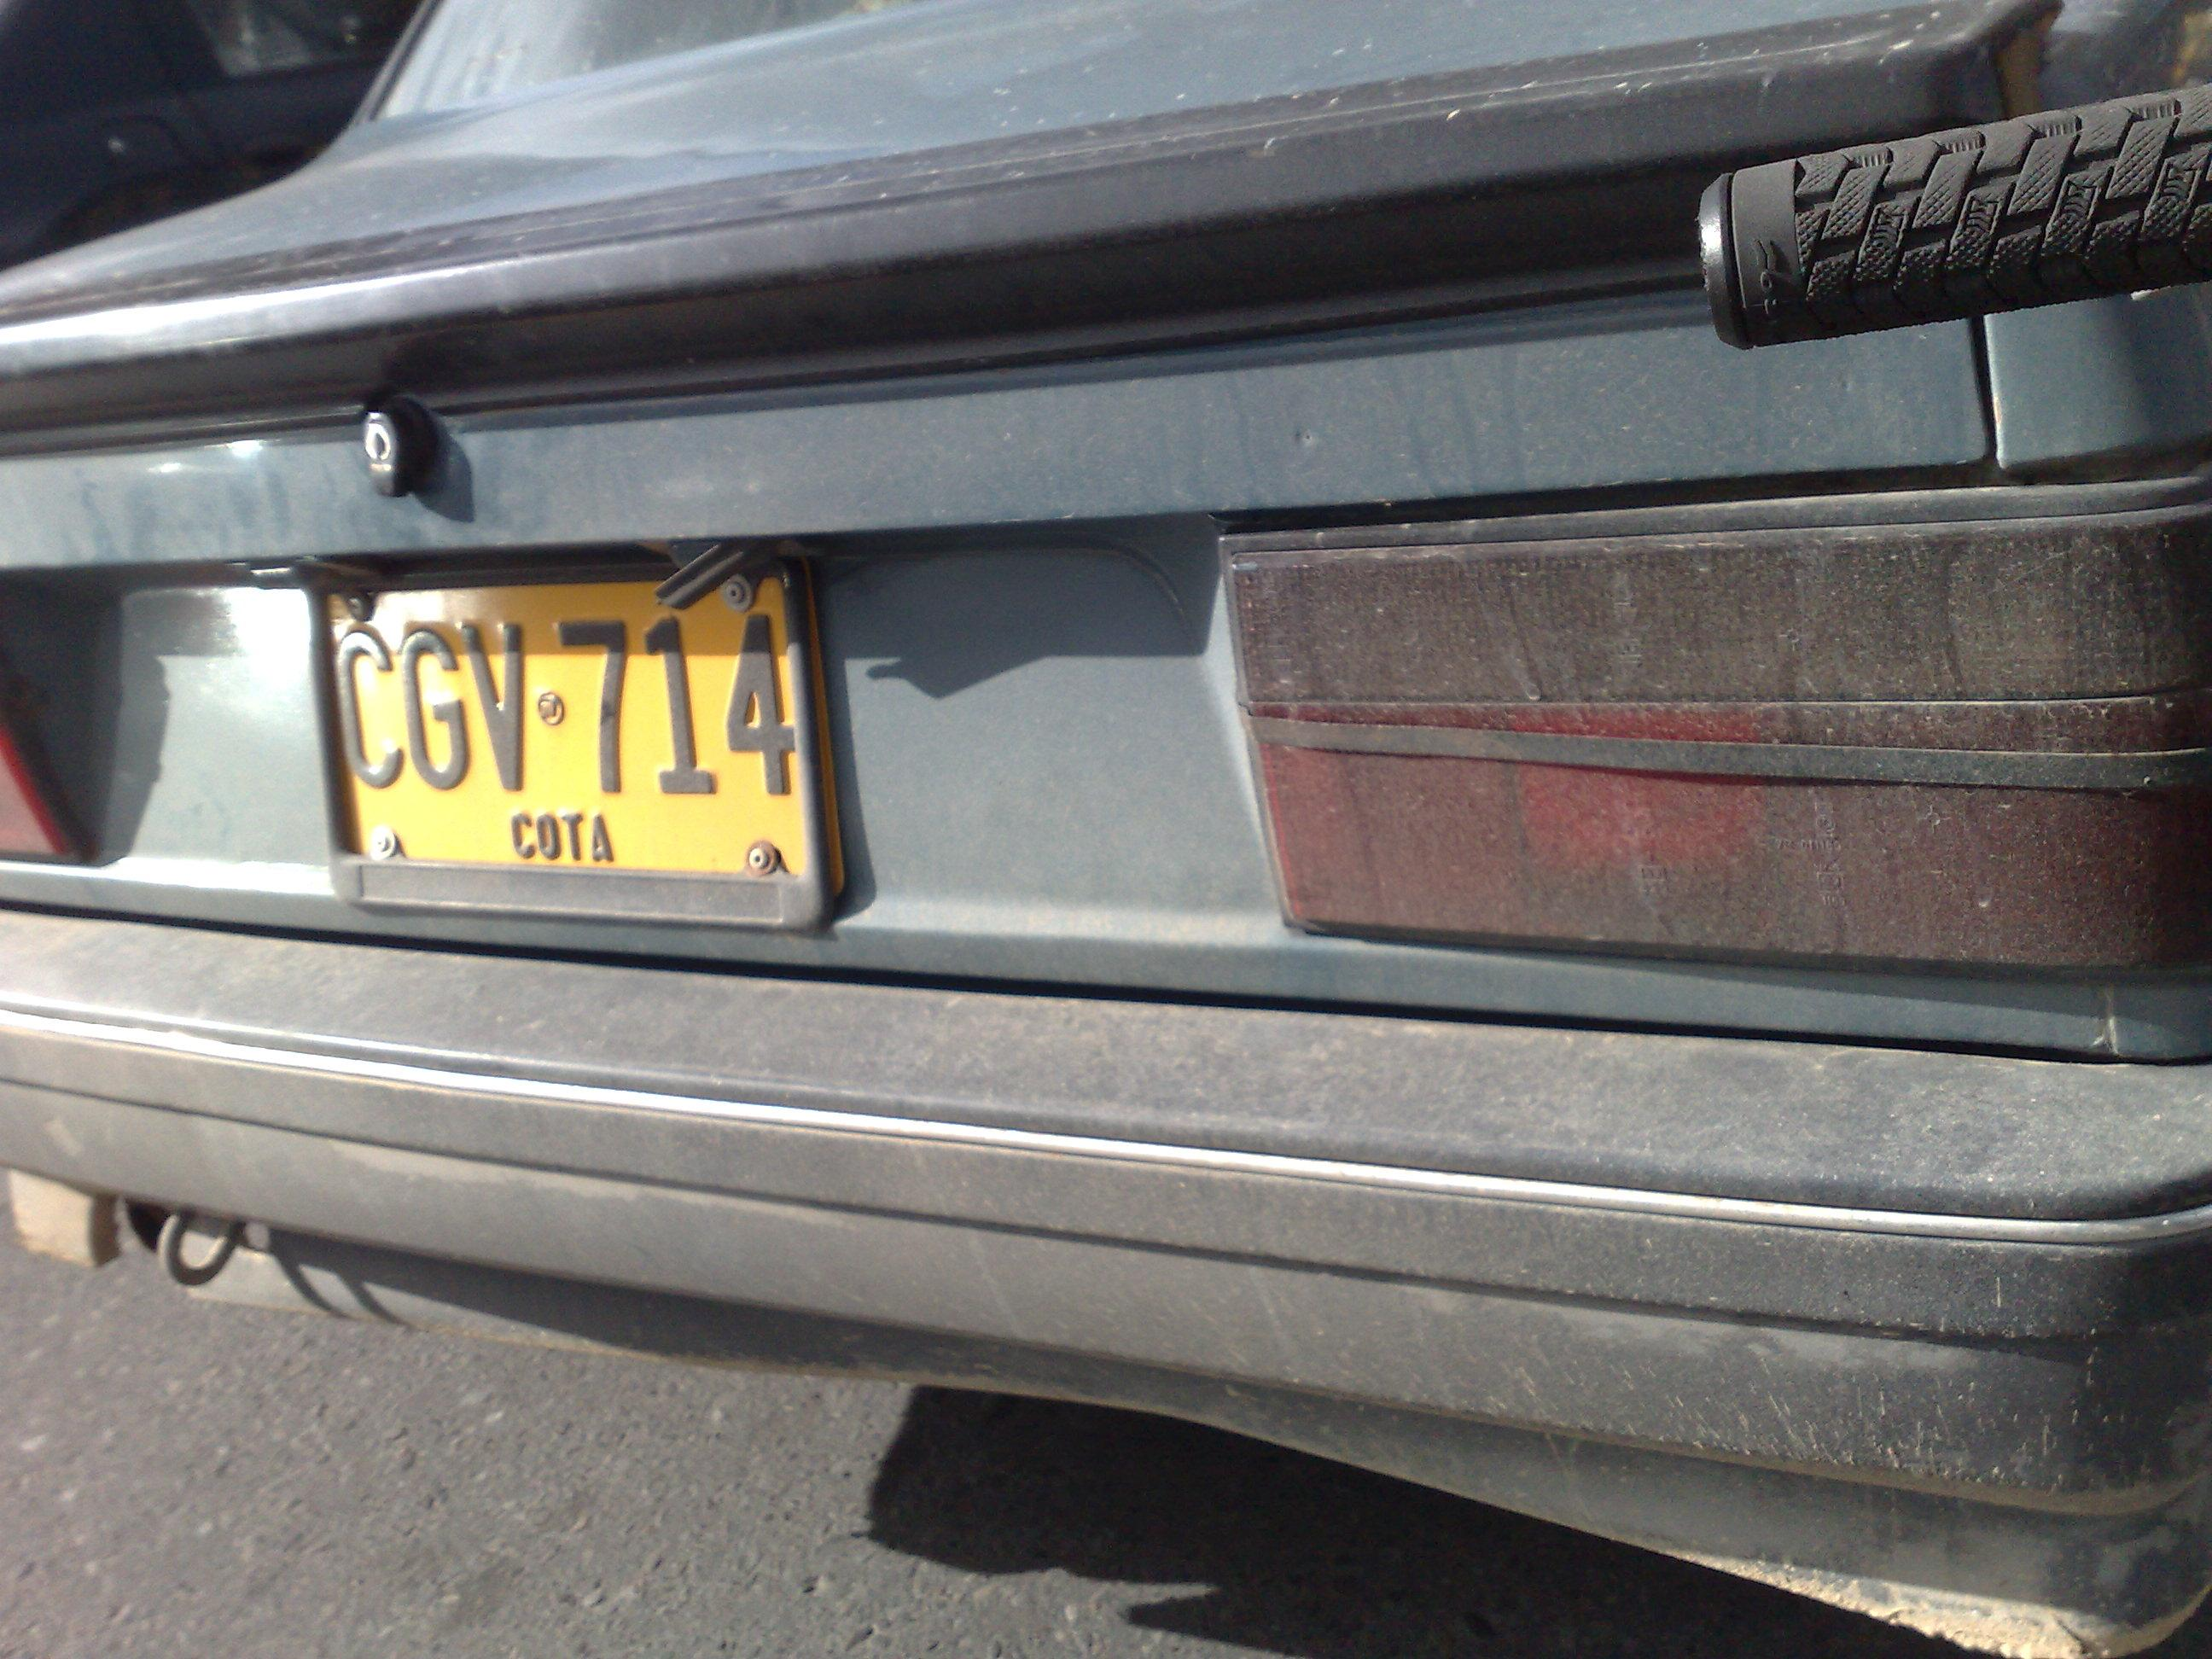placas: (303, 564, 862, 915)
